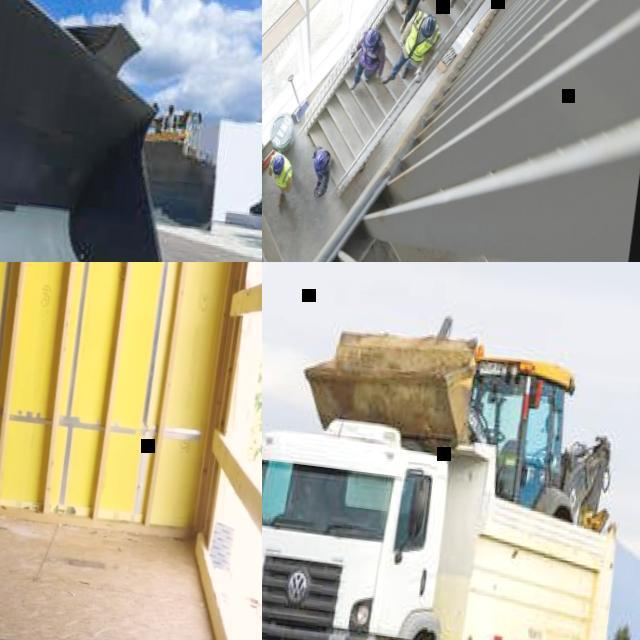Helmet: (364, 18, 397, 53), (266, 142, 291, 175), (419, 16, 449, 43), (306, 149, 338, 166)
Robbery: (395, 0, 443, 106), (261, 138, 312, 224), (301, 138, 354, 204), (344, 19, 391, 89)
